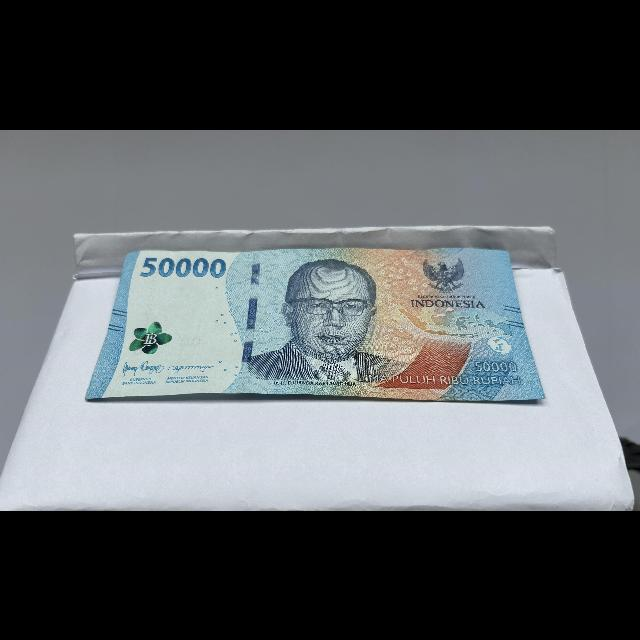Asli-50k: (82, 246, 550, 403)
Tinta-Asli-50k: (127, 315, 180, 360)
